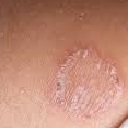Cellulitis: (56, 48, 119, 116)
